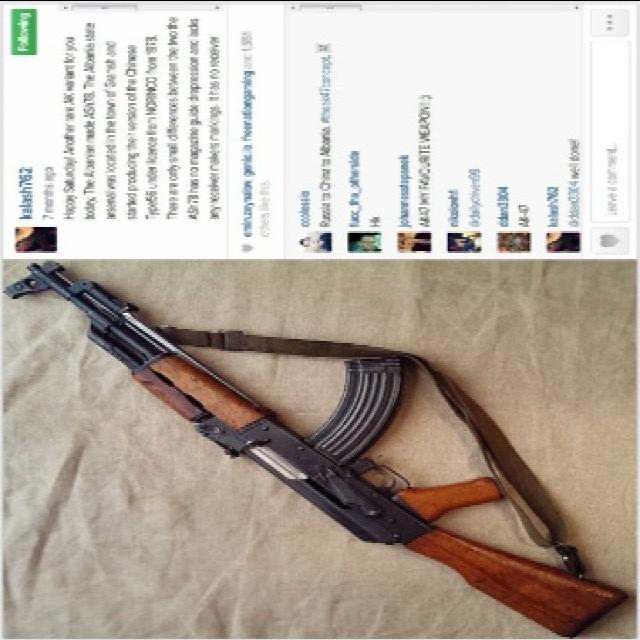rifle: (10, 265, 636, 640)
